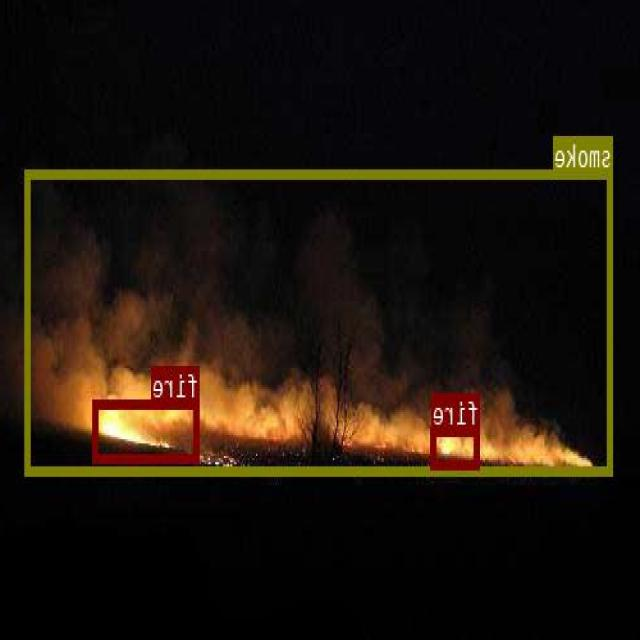fire: (94, 398, 201, 462), (432, 427, 481, 467)
smoke: (26, 168, 614, 474)
